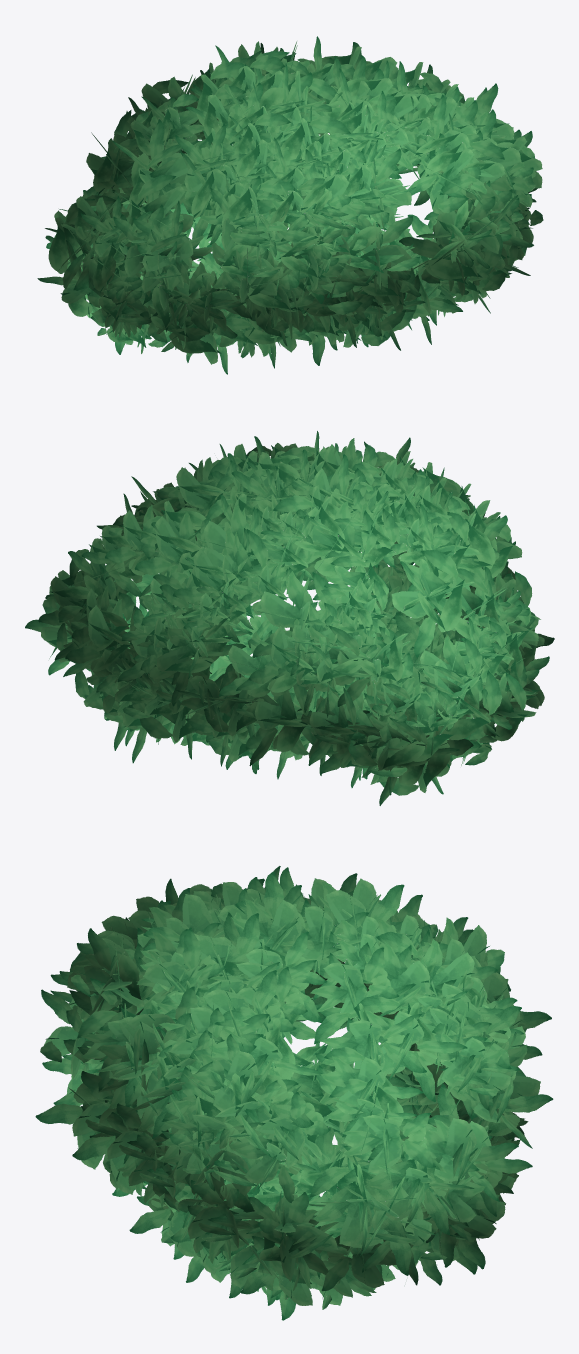
Rendered from Bush.fbx.
The picture shows the model from 3 angles, top to bottom: view 1: azimuth 30°, elevation 25°; view 2: azimuth 150°, elevation 25°; view 3: azimuth 270°, elevation 25°; orthographic projection. The views are drawn at different scales.
Visible parts, largest first — view 1: Plane.234; view 2: Plane.234; view 3: Plane.234.
Part boxes in pixels (box(x1,y1,x2,y2)): Plane.234: box(37, 36, 543, 374); Plane.234: box(25, 431, 554, 805); Plane.234: box(35, 866, 553, 1320).
Size of the model in its own units: 528 by 332 by 432.
Materials: 1 (1 with a texture image).
